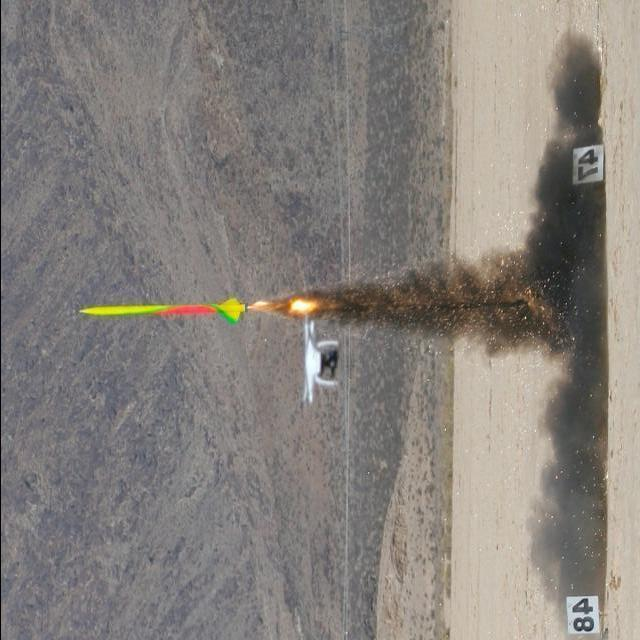missile: (81, 290, 272, 329)
